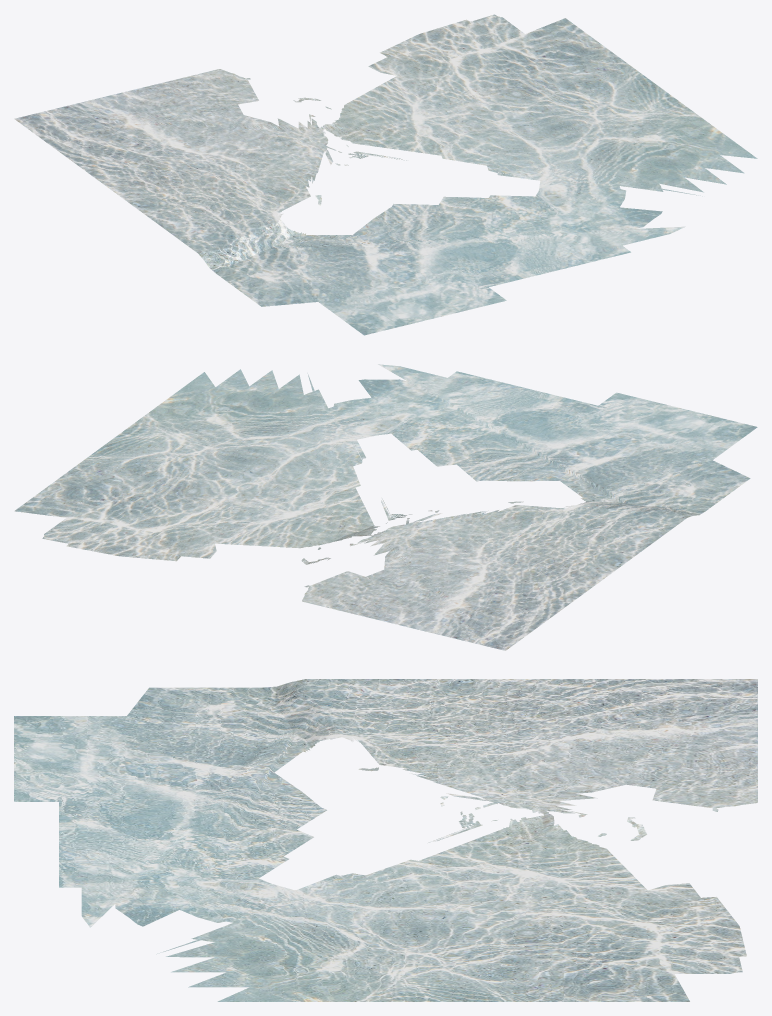
File: howl_field_water.obj
3 views of the same model, one above another, from view 1: azimuth 30°, elevation 25°; view 2: azimuth 150°, elevation 25°; view 3: azimuth 270°, elevation 25° (orthographic). The views are drawn at different scales.
Visible parts, largest first — view 1: Plane.001; view 2: Plane.001; view 3: Plane.001.
Part boxes in pixels (x1,y1,x2,y2): Plane.001: (14, 14, 757, 335); Plane.001: (14, 364, 757, 650); Plane.001: (14, 679, 757, 1001).
Bounding box in the file's own units: 132 × 1.66 × 132.
